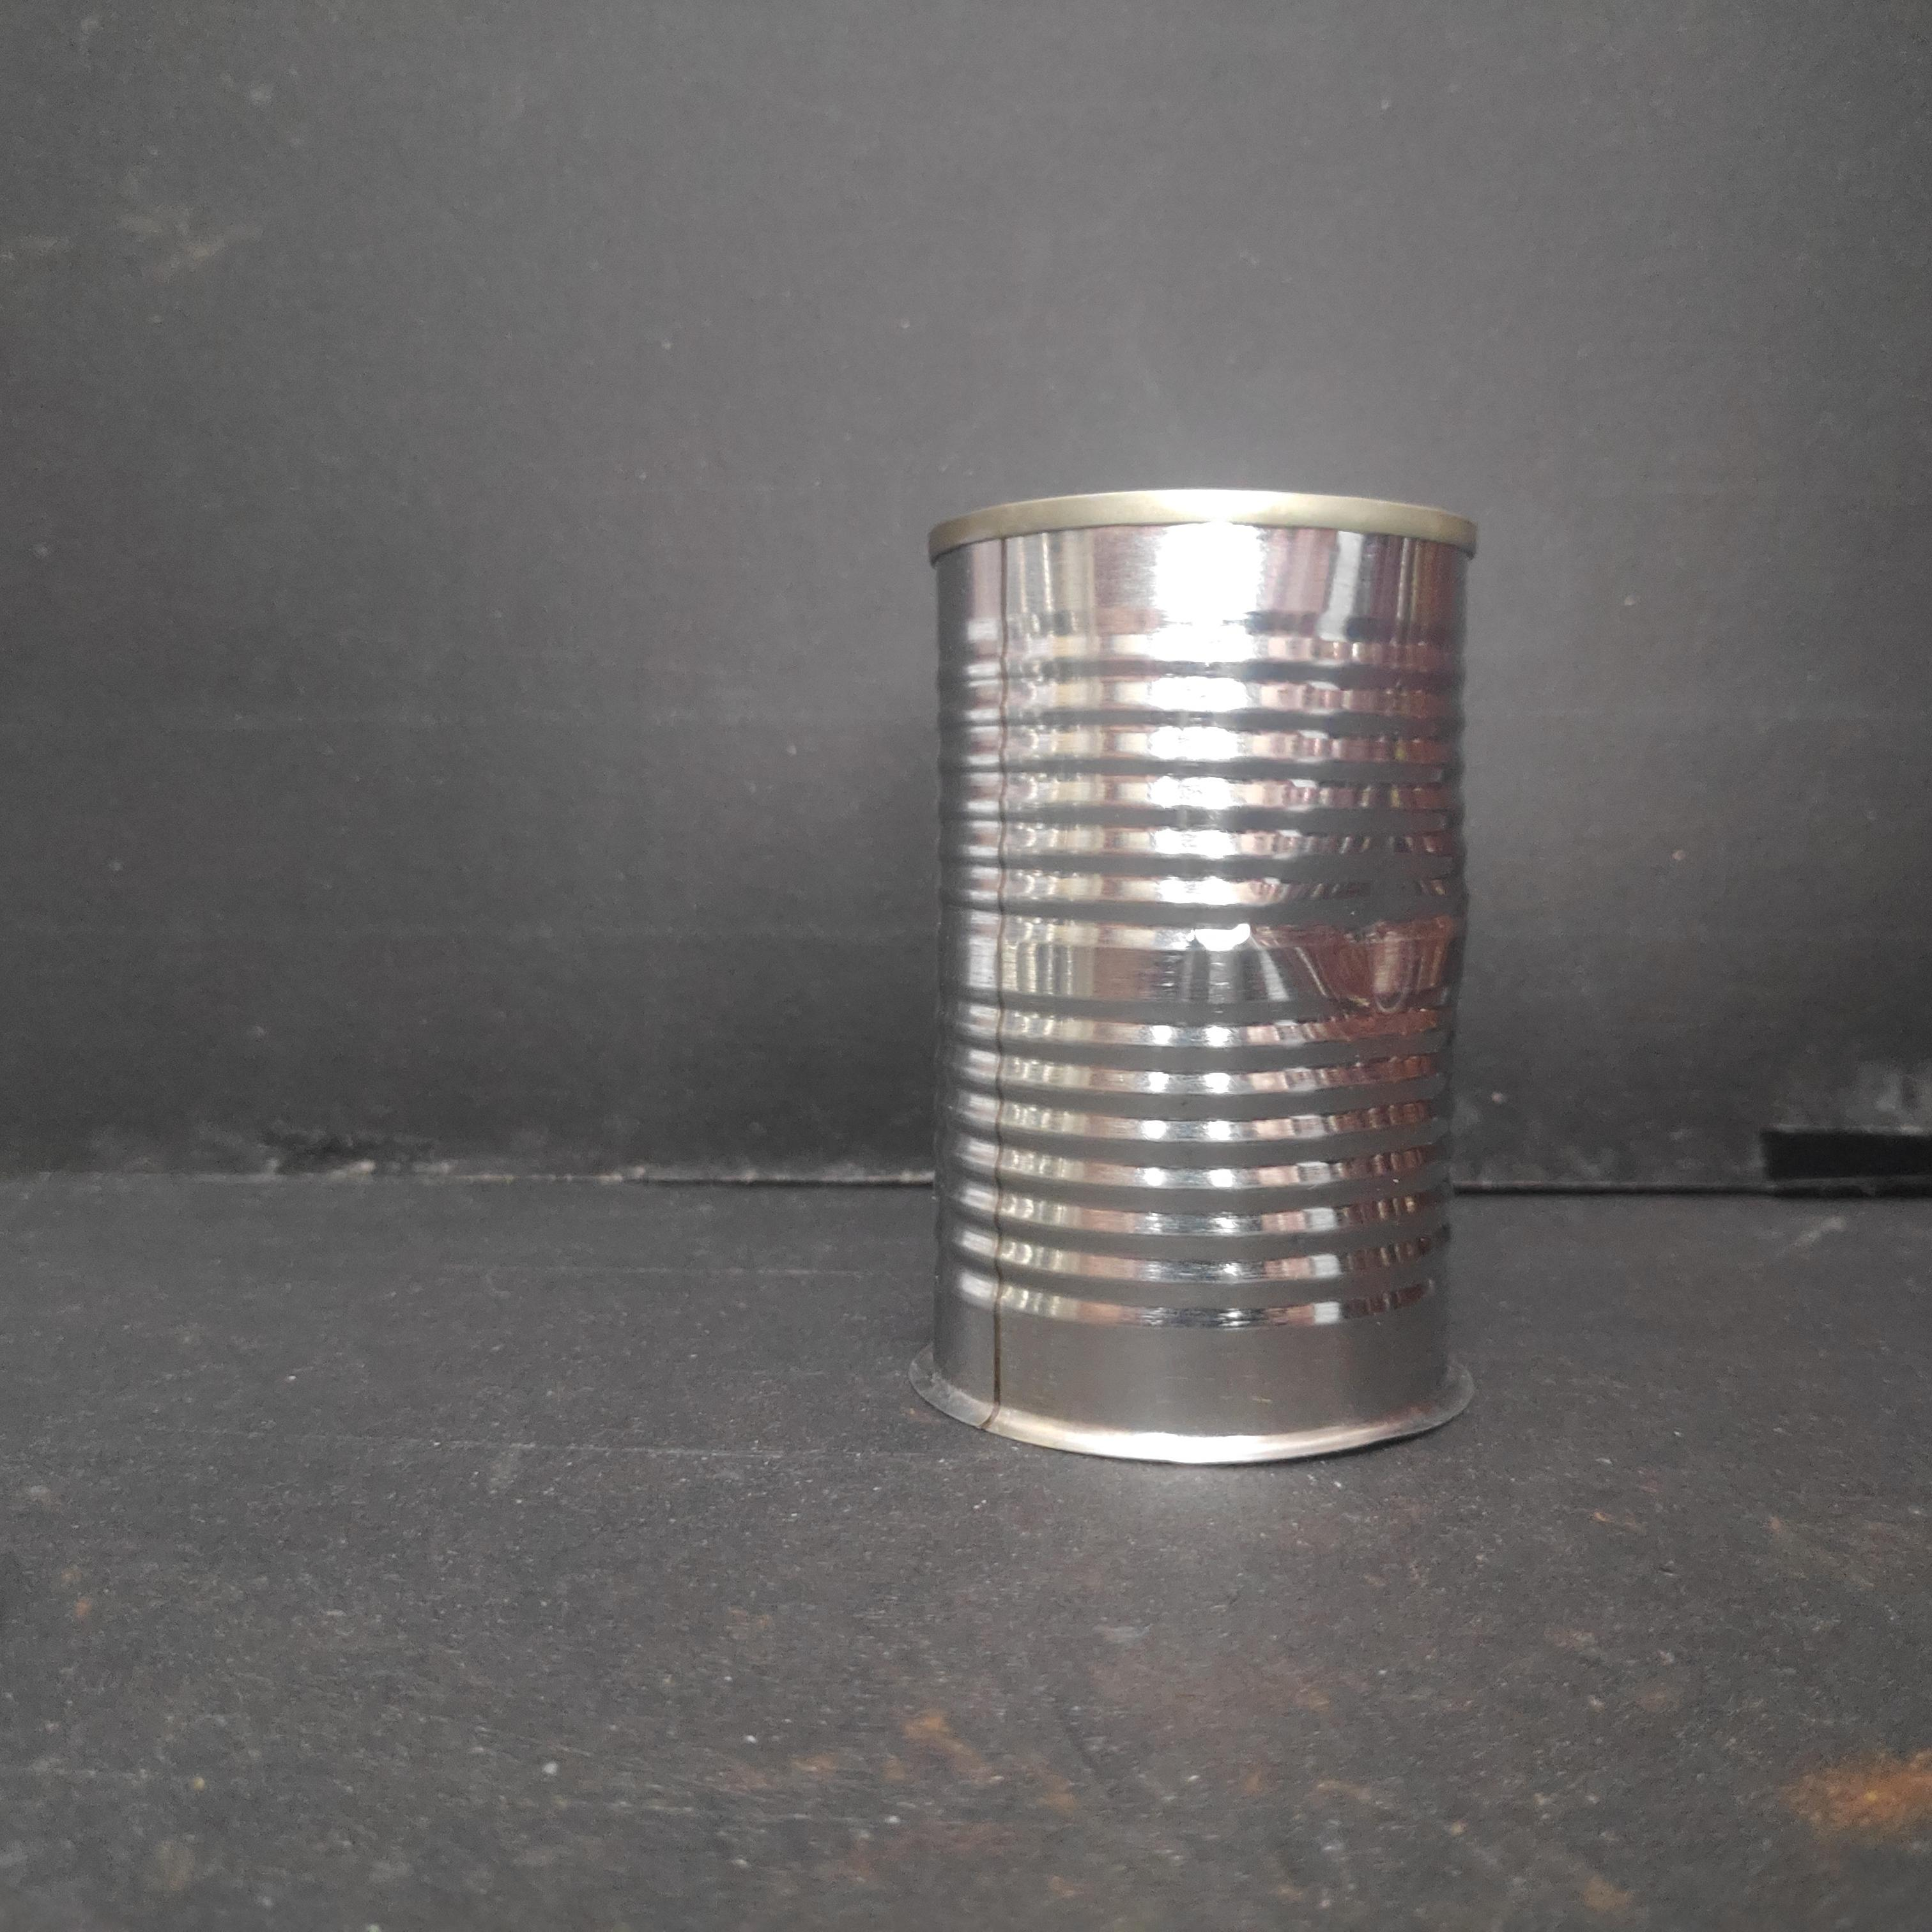Minor Defect: (911, 471, 1486, 1483)
